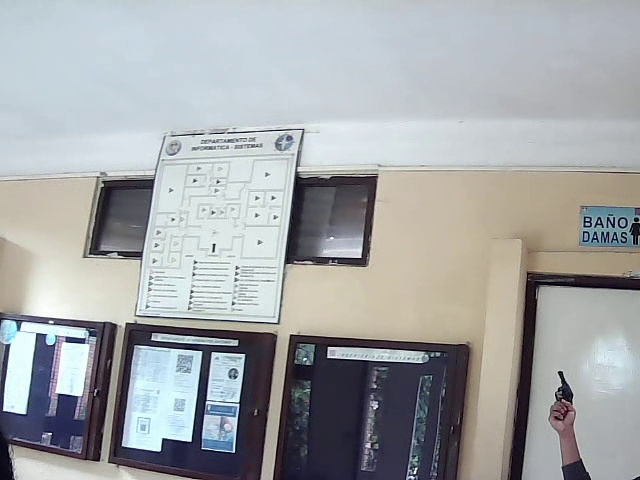pistola: (547, 361, 582, 414)
